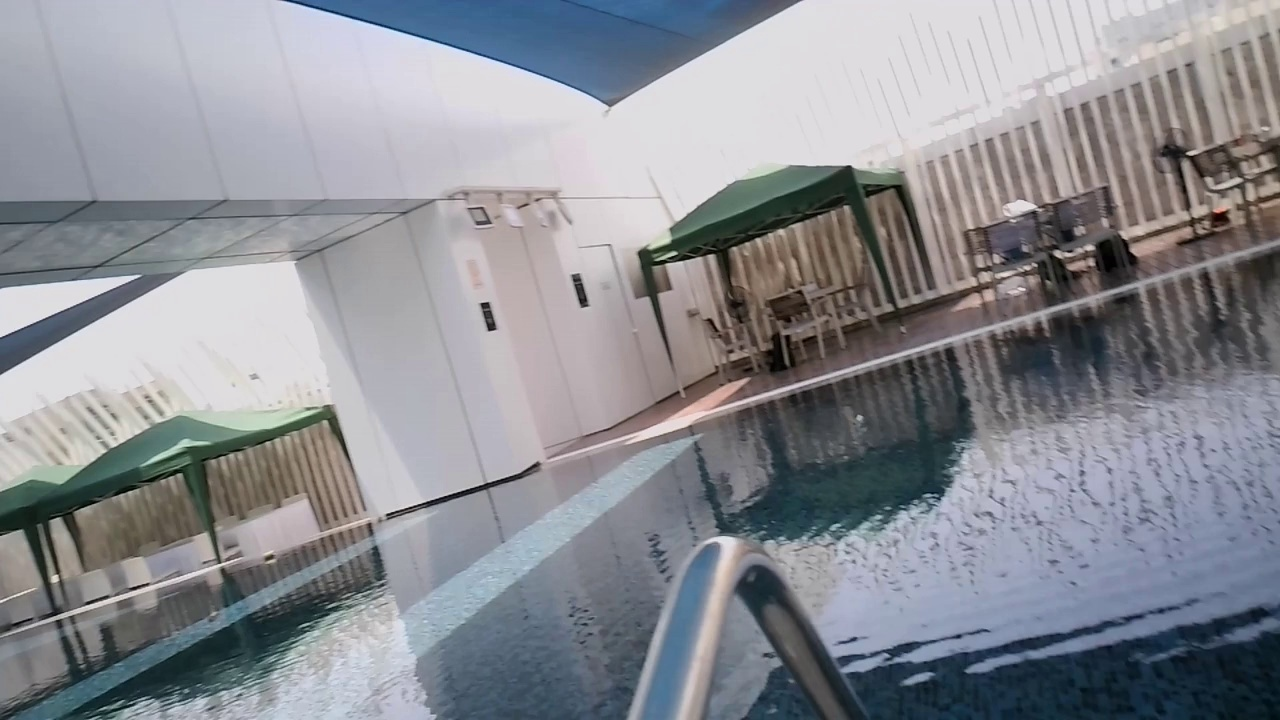debris: (847, 410, 863, 431), (260, 550, 277, 565), (202, 608, 218, 623)
